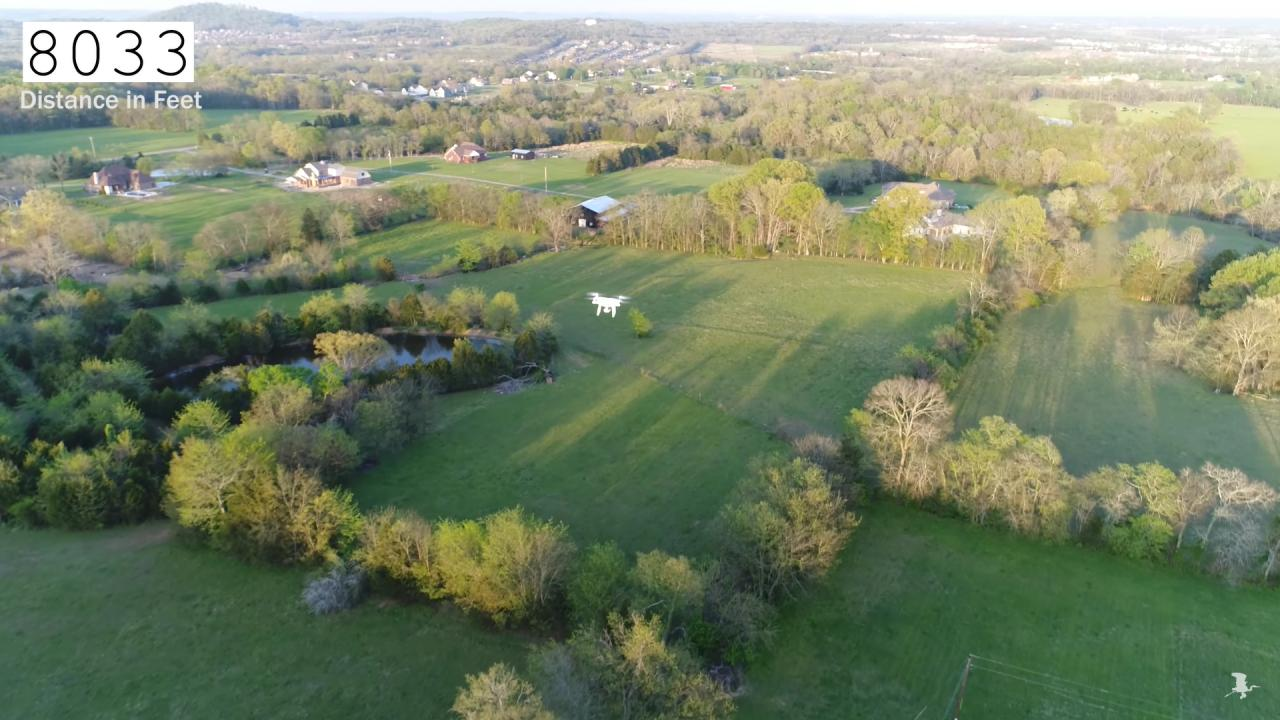Drone: (580, 286, 634, 322)
